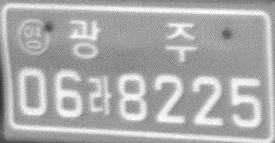0: (16, 66, 49, 118)
2: (191, 75, 225, 127), (153, 74, 186, 124)
5: (229, 76, 262, 129)
6: (52, 68, 84, 119)
8: (116, 71, 148, 122)
광주_D: (66, 19, 198, 63)
라: (87, 74, 113, 115)
영: (16, 17, 50, 57)
